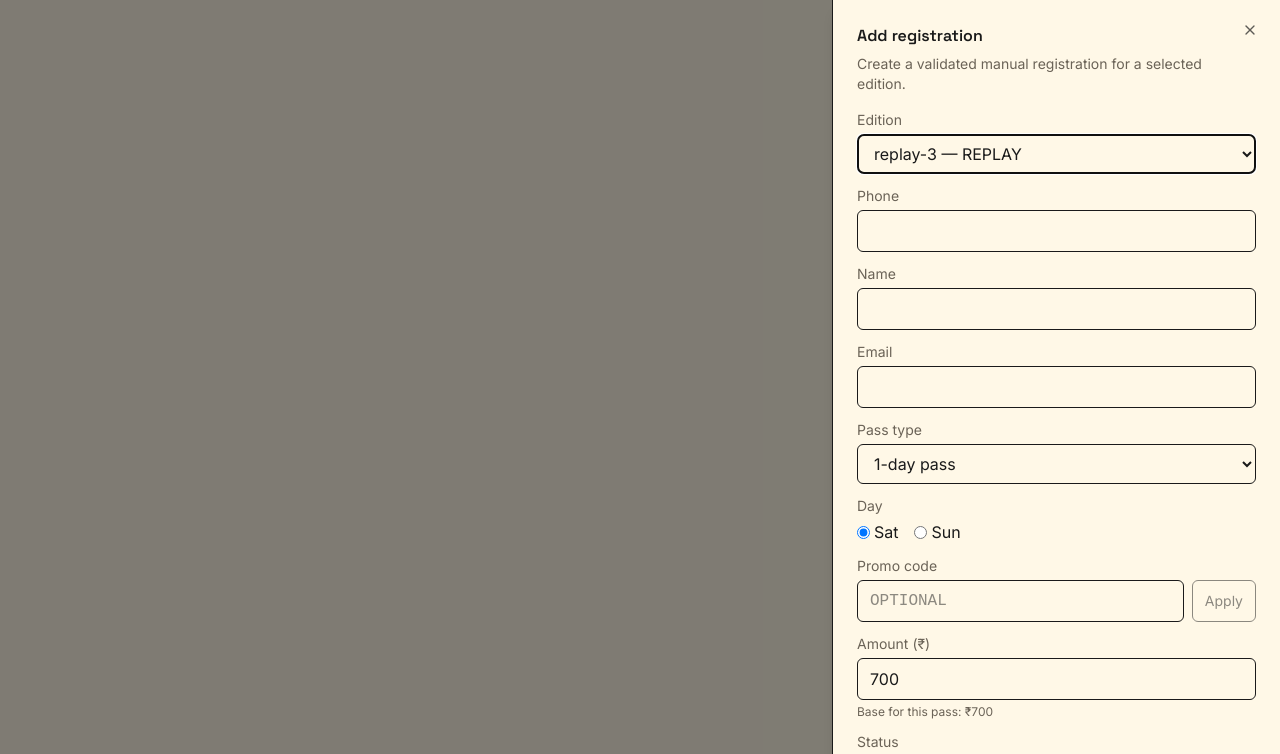
it: explains a refused code and leaves the amount at full price
Type "USEDCODE" into the field named "Promo code" at coordinates (1020, 601), box [857, 580, 1184, 622]
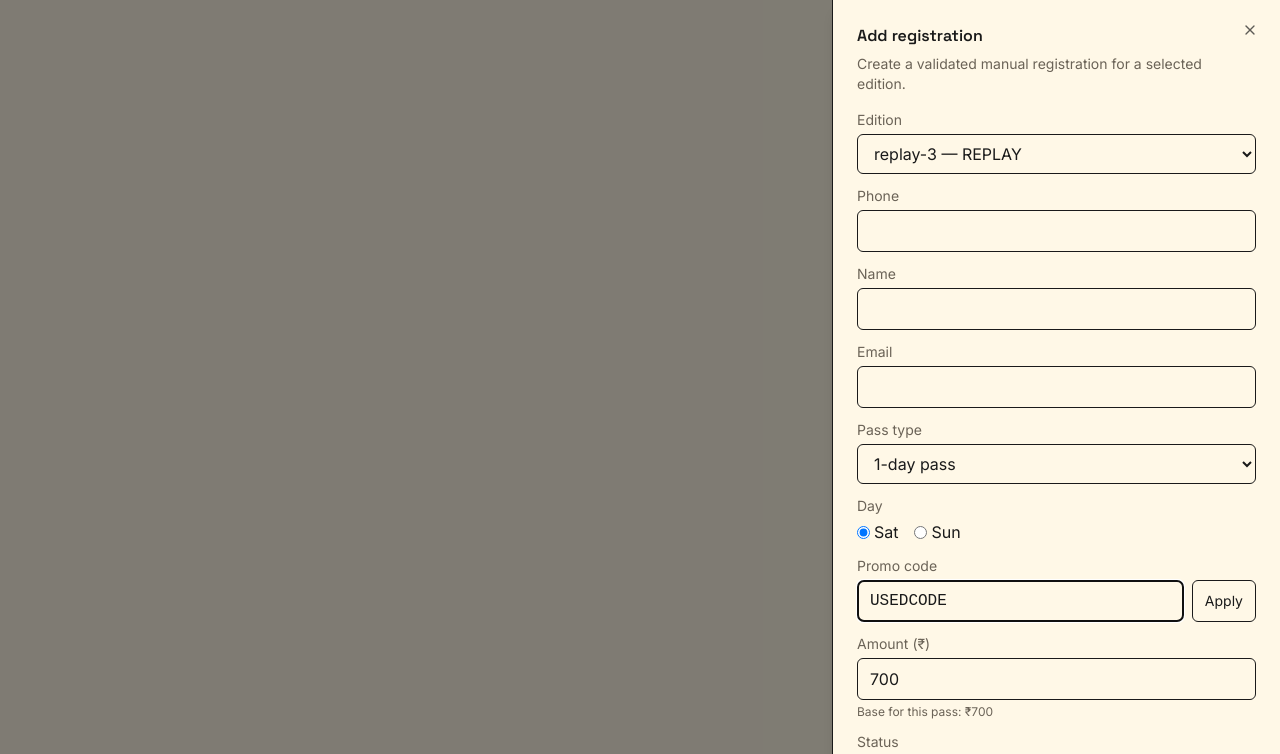
Click the button "Apply" at coordinates (1224, 601), box [1192, 580, 1256, 622]
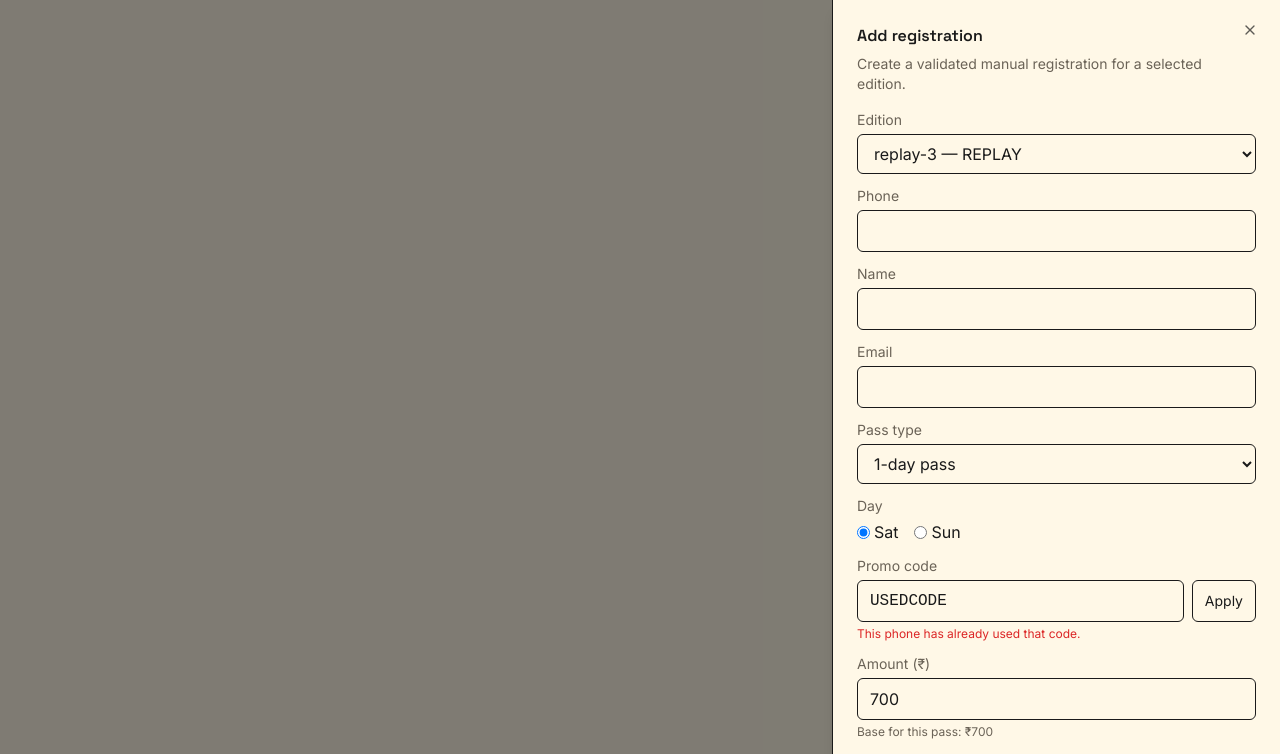
Check: the number field named "Amount" holds "700", box [857, 678, 1256, 720]
Check: the text "This phone has already used that code." is shown, box [857, 626, 1080, 641]
